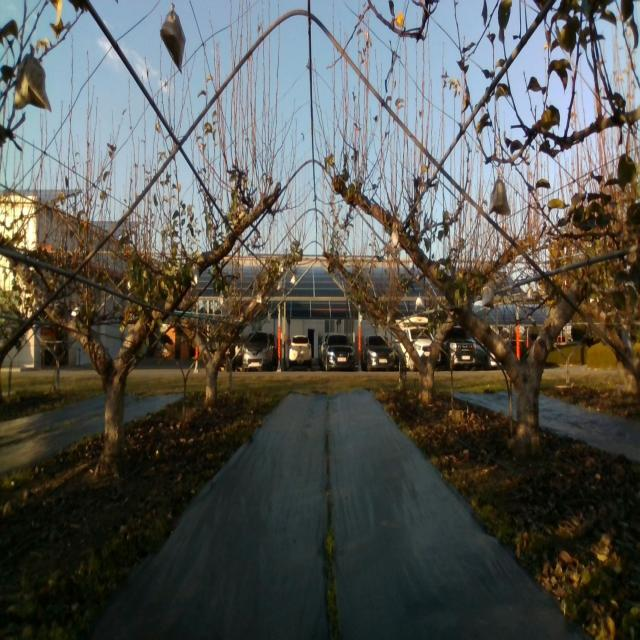pearbags: (13, 54, 52, 112), (160, 12, 186, 74), (488, 180, 510, 217), (482, 287, 494, 310)
